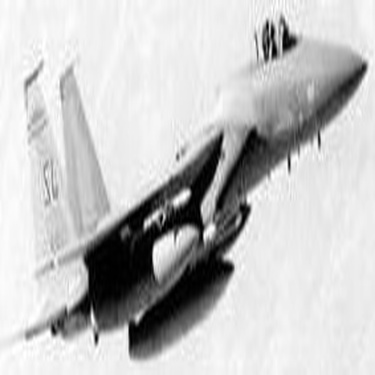airplane: (4, 1, 367, 369)
